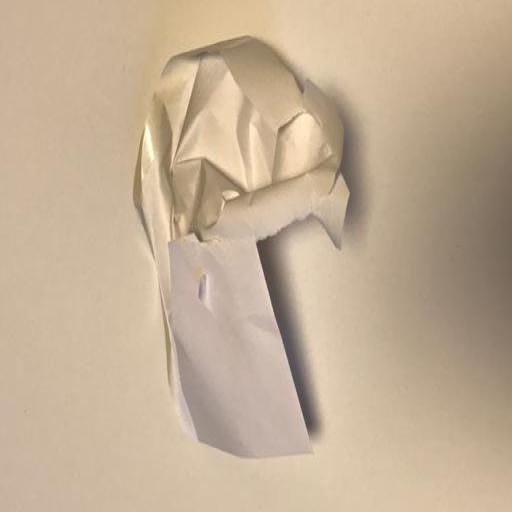waste: (128, 28, 370, 468)
